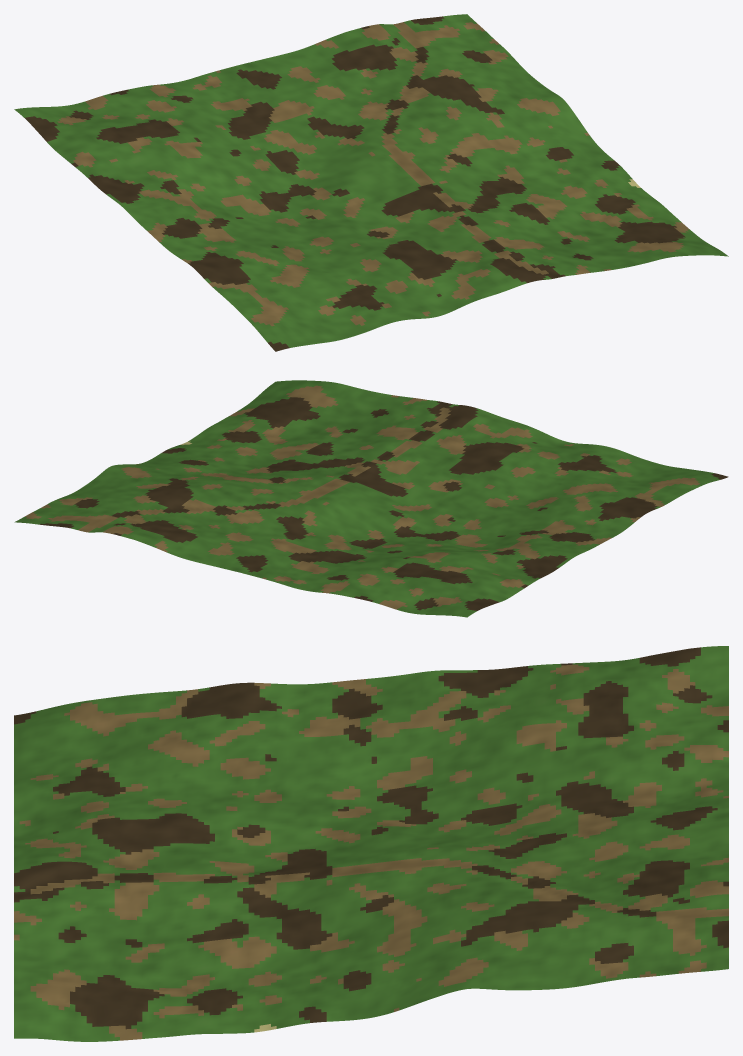
File: chunk_0_3.glb
The picture shows the model from 3 angles, top to bottom: view 1: azimuth 30°, elevation 25°; view 2: azimuth 150°, elevation 25°; view 3: azimuth 270°, elevation 25°; orthographic projection. The views are drawn at different scales.
Parts seen in each view (by area): view 1: Surface_Grass, Surface_Dirt, Surface_Mud; view 2: Surface_Grass, Surface_Dirt, Surface_Mud; view 3: Surface_Grass, Surface_Dirt, Surface_Mud.
Part boxes in pixels (bbox=[...]): Surface_Grass: bbox=[14, 14, 728, 347]; Surface_Dirt: bbox=[57, 22, 689, 326]; Surface_Mud: bbox=[25, 16, 685, 351]; Surface_Grass: bbox=[14, 380, 720, 617]; Surface_Dirt: bbox=[24, 385, 700, 609]; Surface_Mud: bbox=[39, 397, 728, 610]; Surface_Grass: bbox=[14, 646, 728, 1041]; Surface_Dirt: bbox=[14, 664, 728, 1040]; Surface_Mud: bbox=[14, 647, 728, 1029].
Bounding box in the file's own units: 256 × 37.05 × 256.
